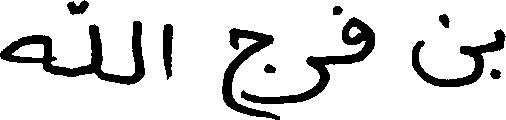X: (412, 9, 482, 91), (225, 23, 273, 119), (275, 51, 328, 119), (0, 30, 50, 77), (342, 4, 373, 68), (89, 19, 102, 84), (133, 16, 144, 88), (162, 19, 172, 84), (494, 24, 505, 83)
